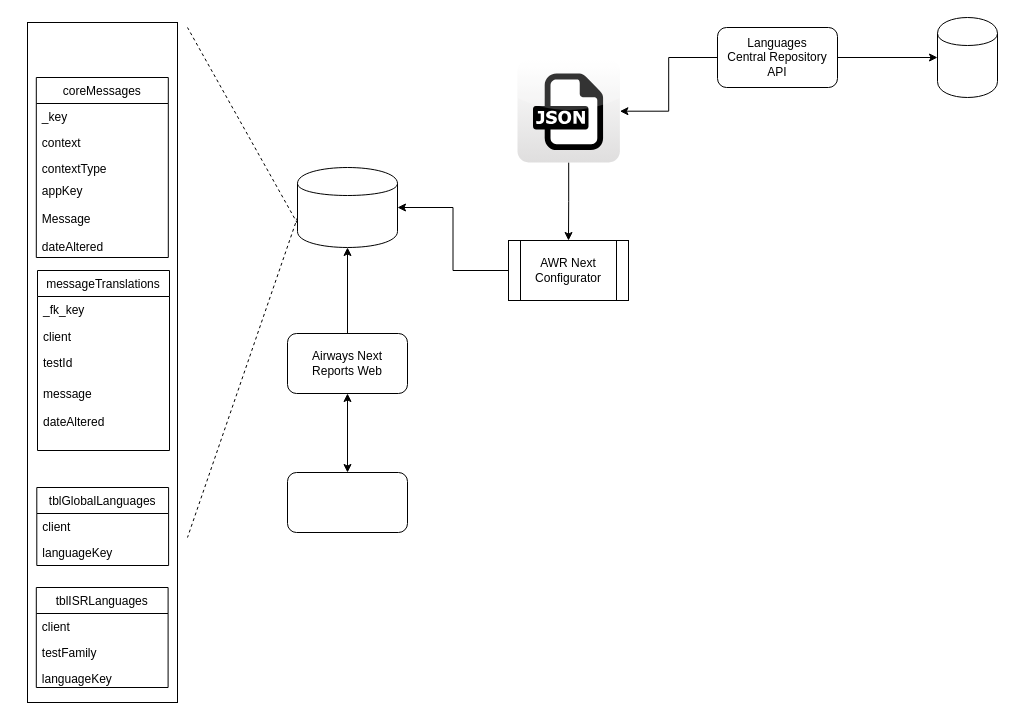
This 1015x720 diagram has some shape labels left out. The centre of each missing label's shape, as x and y in pixels:
Airways Next Renderer/ Pdf Generator: the point at 347,502
AWR_Configs: the point at 347,207
Central Repo DB: the point at 967,57
